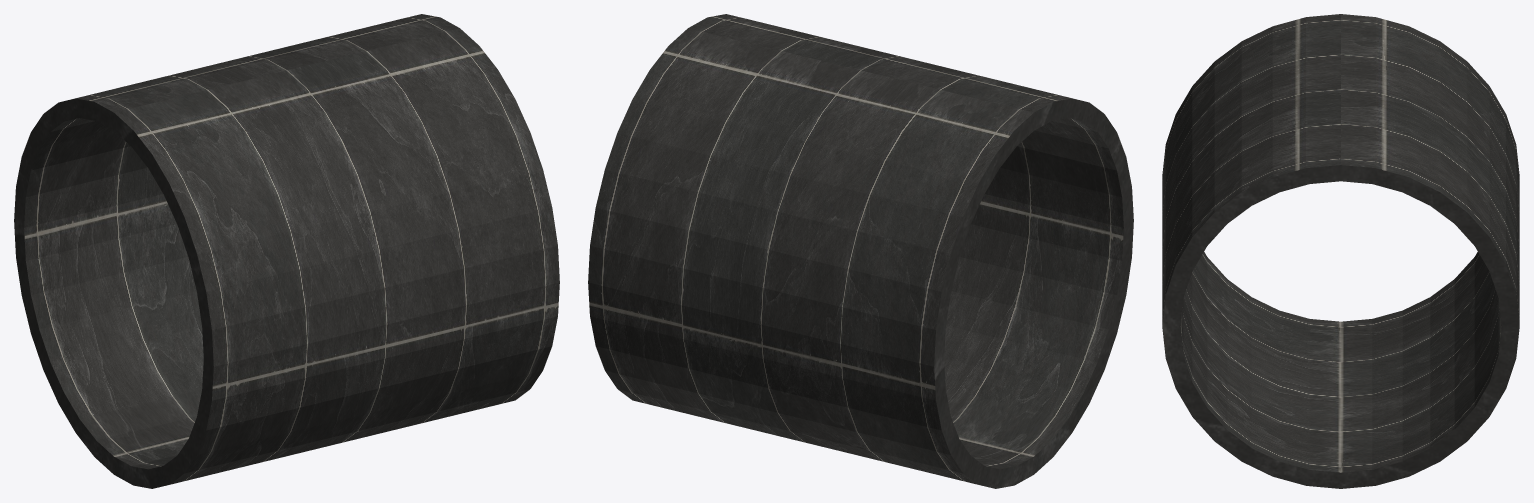
Rendered from ShortBasicCylinder.fbx.
3 renders of one model, left to right at view 1: azimuth 30°, elevation 25°; view 2: azimuth 150°, elevation 25°; view 3: azimuth 270°, elevation 25°, orthographic. The views are drawn at different scales.
Visible parts, largest first — view 1: BasicCylinder; view 2: BasicCylinder; view 3: BasicCylinder.
Boxes of the visible parts, <box> form: BasicCylinder: <box>14,14,559,488</box>; BasicCylinder: <box>588,14,1133,488</box>; BasicCylinder: <box>1162,14,1519,488</box>.
Bounding box in the file's own units: 200 × 200 × 200.
1 material, 1 textured.
